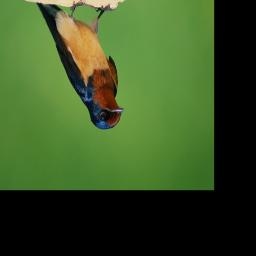Swallow: (35, 0, 125, 131)
